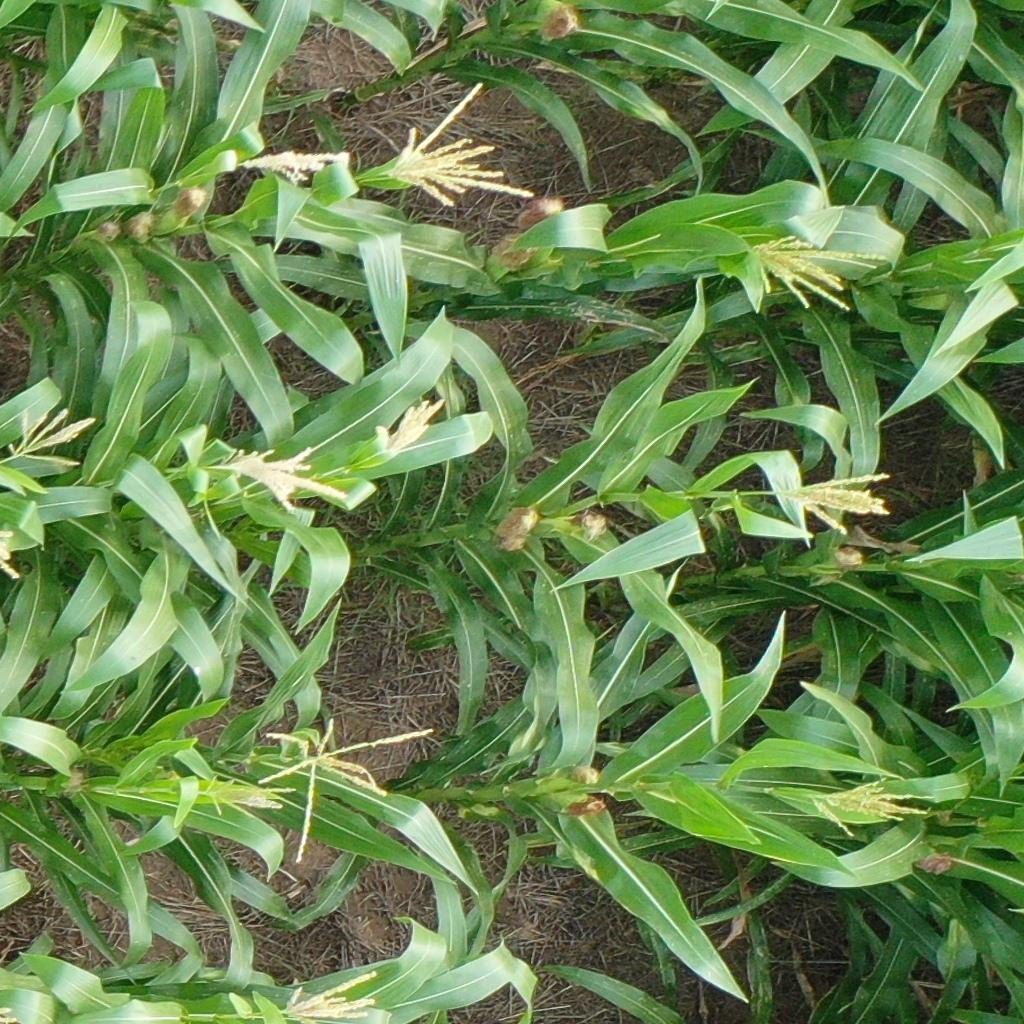Tassel: (254, 716, 434, 868), (388, 81, 535, 214), (747, 232, 888, 314), (220, 445, 350, 519), (803, 774, 936, 840), (774, 466, 893, 538), (8, 406, 102, 467), (279, 967, 379, 1024), (373, 394, 446, 458), (201, 773, 297, 815), (237, 146, 347, 182), (1, 528, 25, 579)
